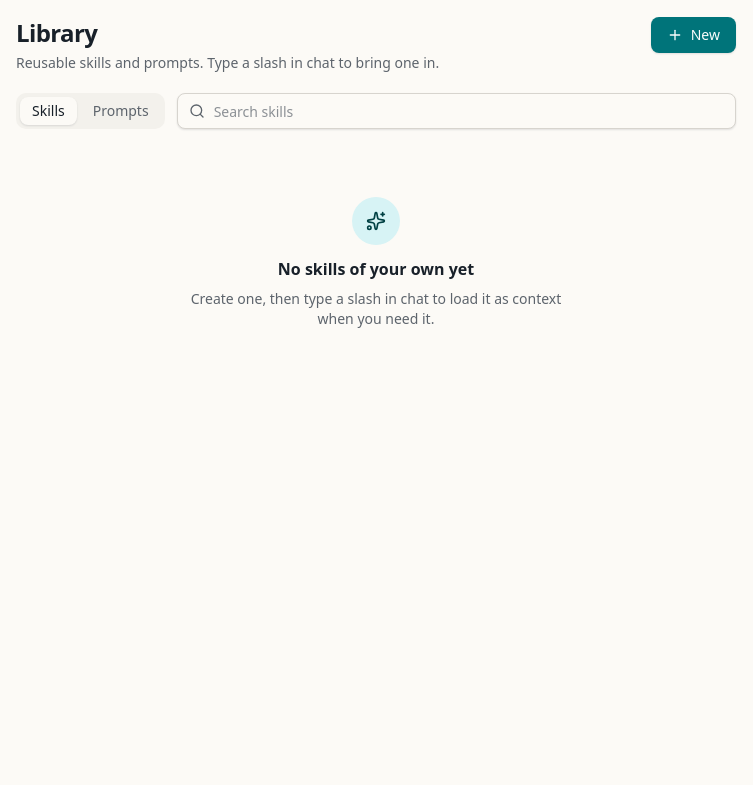
Test: prompts tab › pages through the user's prompts, stops after a failed page and resumes on Retry (scenario 32)
The width and height of the screenshot is (753, 785).
Check: the heading "No skills of your own yet" is shown, box [278,257,474,281]
Click the tab "Prompts". click: click(121, 111)
box: [81,97,161,125]
(page scrolled)
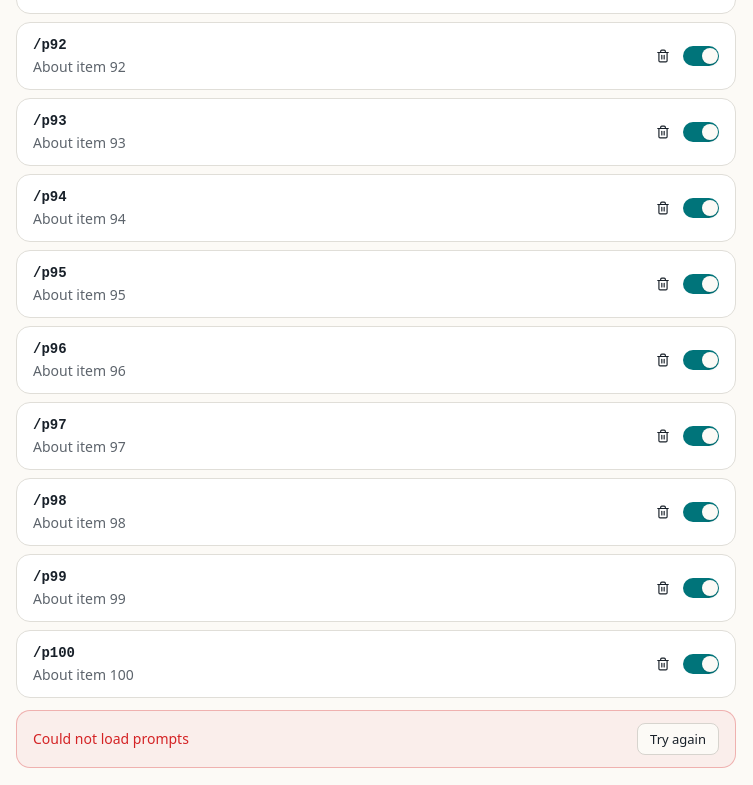
Check: the button "Try again" is shown
Click the button "Try again". click: click(678, 739)
box: [637,723,719,755]
(page scrolled)
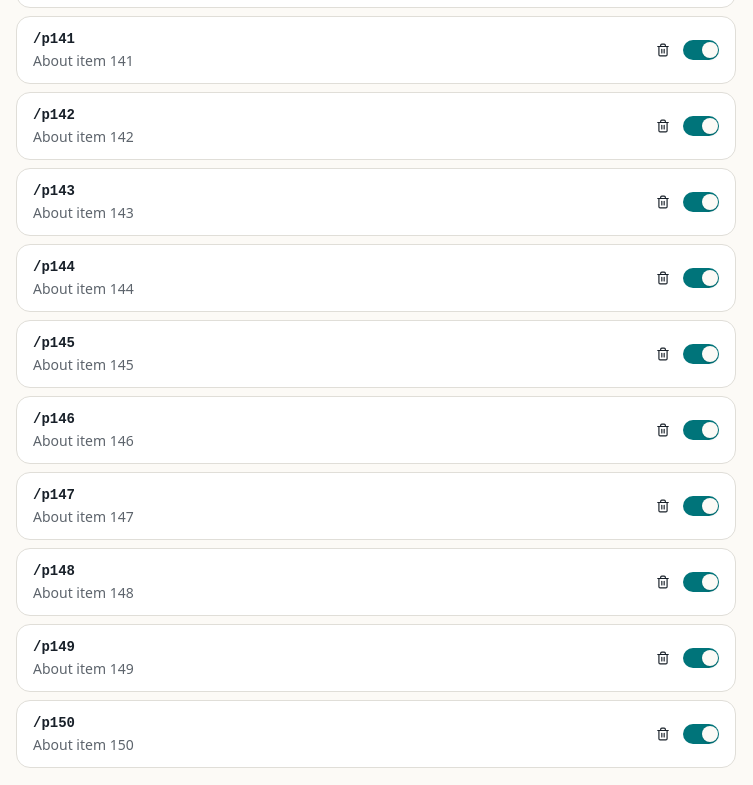
Check: the text "/p150" is shown, box [33,713,75,733]
